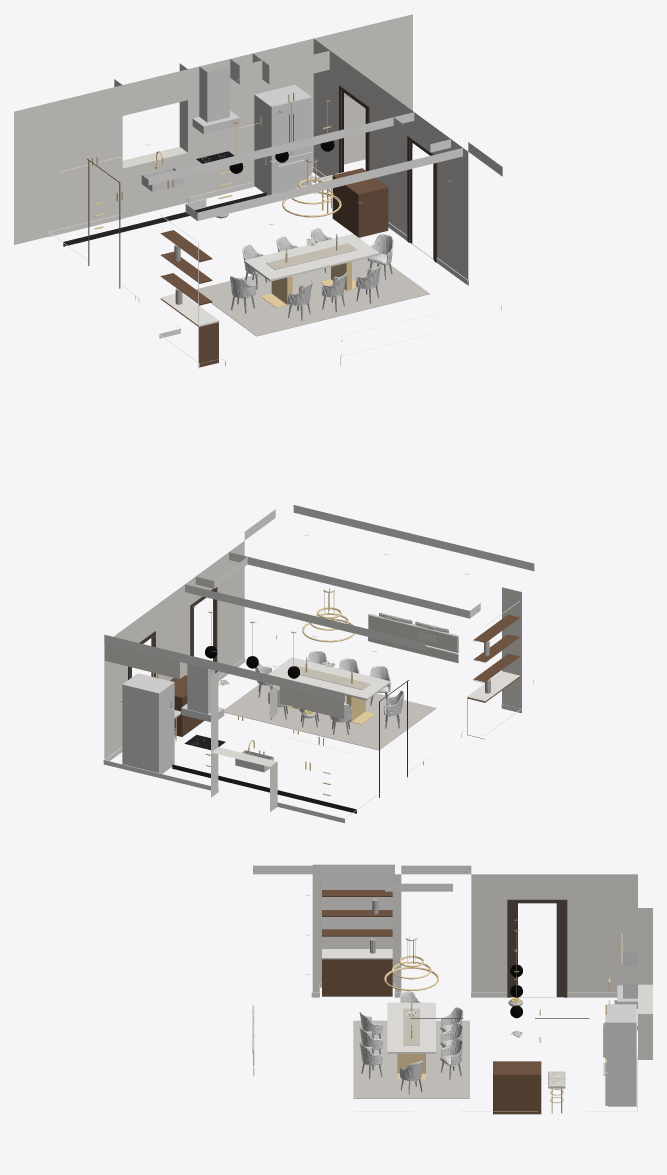
The model's file is KITDIN.glb.
3 renders of one model, top to bottom at view 1: azimuth 30°, elevation 25°; view 2: azimuth 150°, elevation 25°; view 3: azimuth 270°, elevation 25°, orthographic. The views are drawn at different scales.
Parts seen in each view (by area): view 1: WEB_KITDIN; view 2: WEB_KITDIN; view 3: WEB_KITDIN.
Part boxes in pixels (x1,y1,x2,y2): WEB_KITDIN: (14,14,502,368); WEB_KITDIN: (103,505,534,823); WEB_KITDIN: (252,864,652,1114).
Size of the model in its own units: 8.75 by 3 by 13.2.
